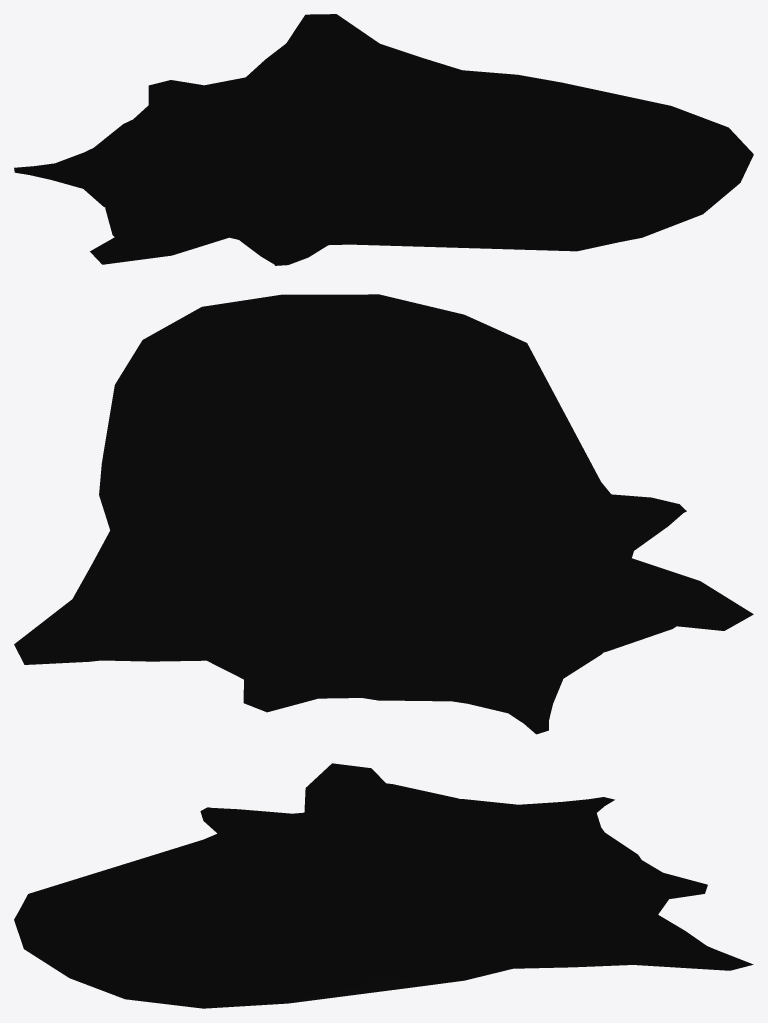
3 renders of one model, top to bottom at view 1: azimuth 30°, elevation 25°; view 2: azimuth 150°, elevation 25°; view 3: azimuth 270°, elevation 25°, orthographic. The views are drawn at different scales.
Visible parts, largest first — view 1: Joint_0_Object_0; view 2: Joint_0_Object_0; view 3: Joint_0_Object_0.
Boxes of the visible parts, bbox=[...] form: Joint_0_Object_0: bbox=[14, 14, 753, 265]; Joint_0_Object_0: bbox=[14, 294, 753, 734]; Joint_0_Object_0: bbox=[14, 763, 753, 1008].
Size of the model in its own units: 1783 by 180 by 1912.
Materials: 1 (1 with a texture image).
